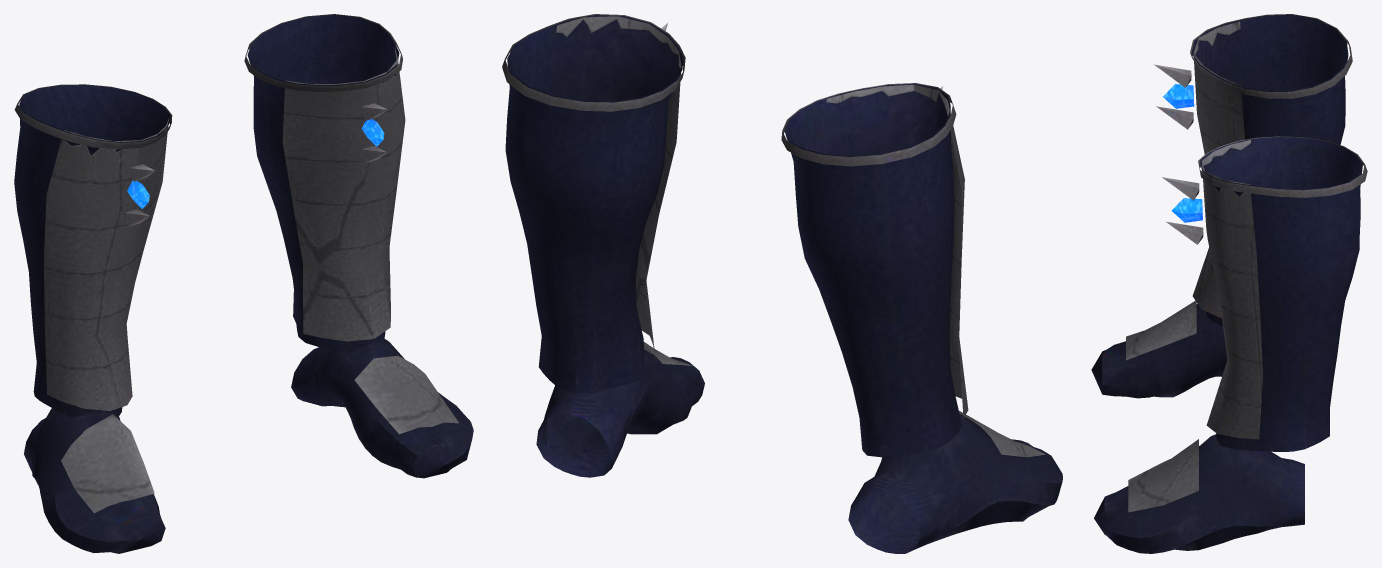
Rendered from Botas_de_Energia_nivel75.glb.
3 views of the same model, side by side, from view 1: azimuth 30°, elevation 25°; view 2: azimuth 150°, elevation 25°; view 3: azimuth 270°, elevation 25° (orthographic). The views are drawn at different scales.
Visible parts, largest first — view 1: botas_de_energia_nivel75; view 2: botas_de_energia_nivel75; view 3: botas_de_energia_nivel75.
Part boxes in pixels (x1,y1,x2,y2): botas_de_energia_nivel75: (14, 14, 473, 553); botas_de_energia_nivel75: (502, 14, 1062, 553); botas_de_energia_nivel75: (1091, 14, 1367, 553).
Size of the model in its own units: 0.5105 by 0.4384 by 0.3018.
Materials: 1 (1 with a texture image).
